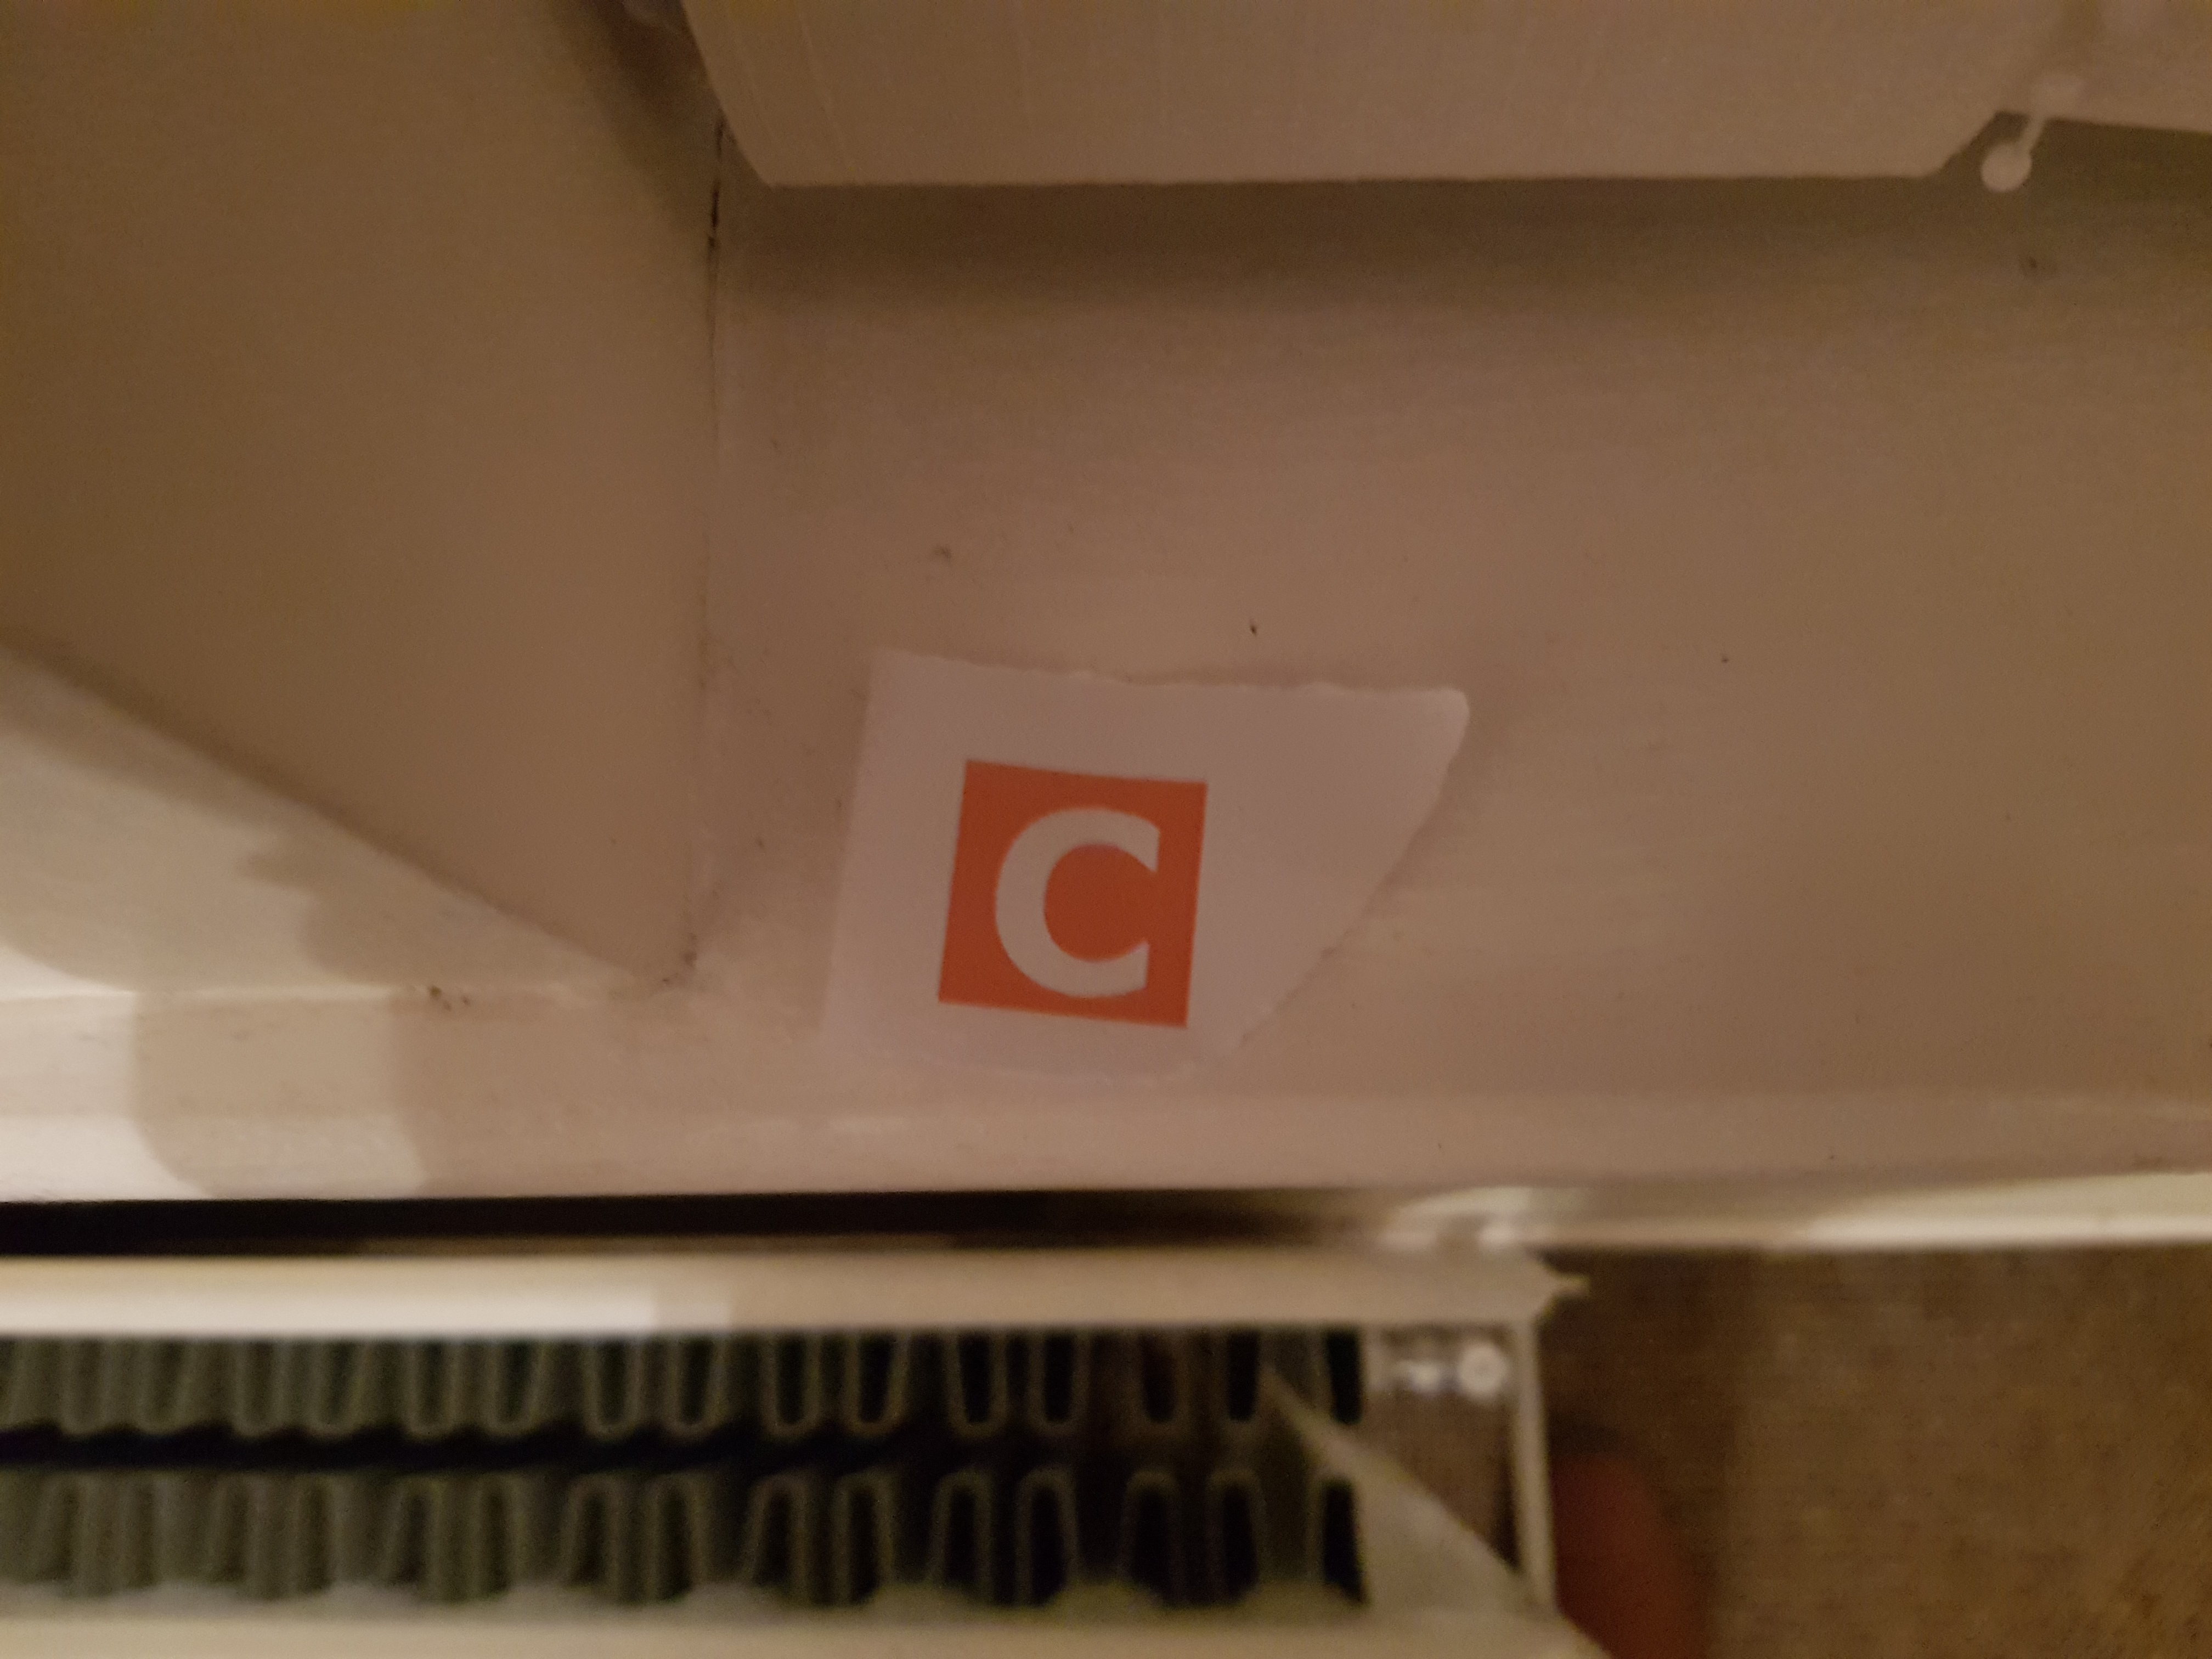marker: (843, 629, 1325, 1091)
